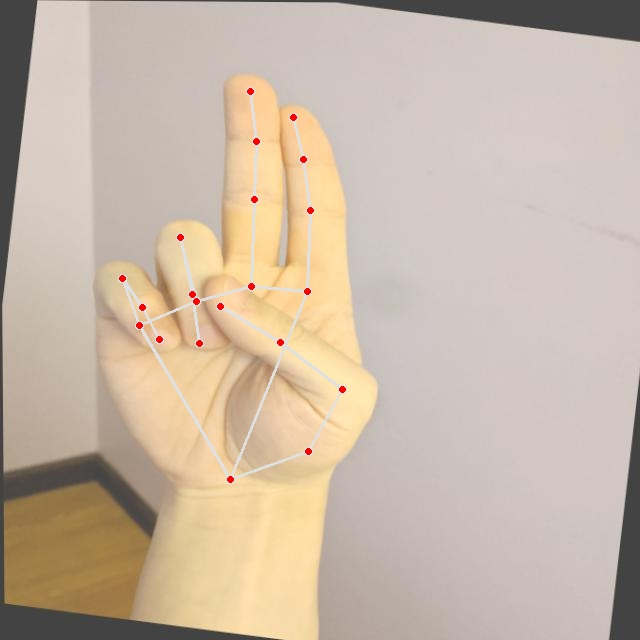U: (63, 50, 421, 513)
